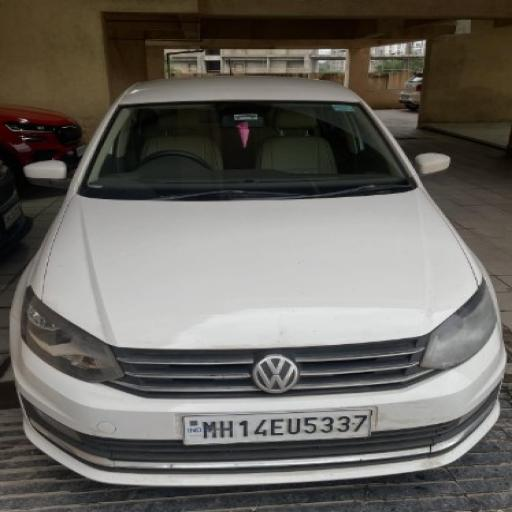License: (175, 408, 383, 440)
